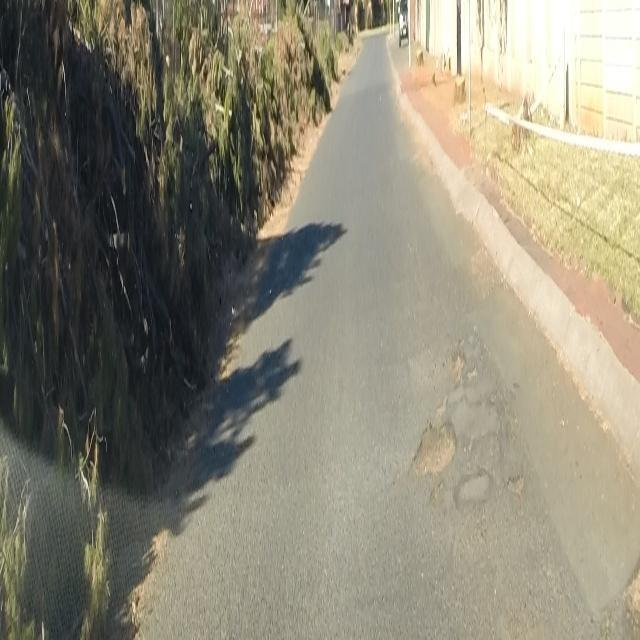pothole: (407, 410, 458, 482), (506, 468, 526, 497), (452, 345, 466, 380)
